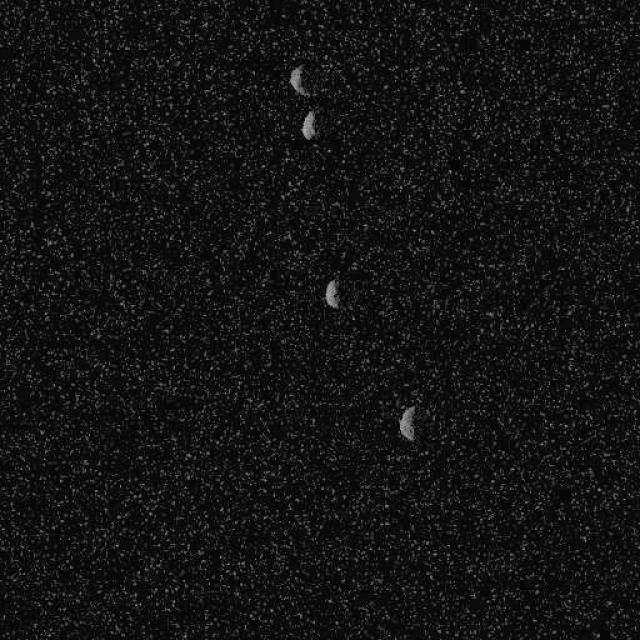D2: (288, 62, 312, 98), (398, 404, 417, 441), (300, 109, 316, 140), (324, 278, 340, 308)
